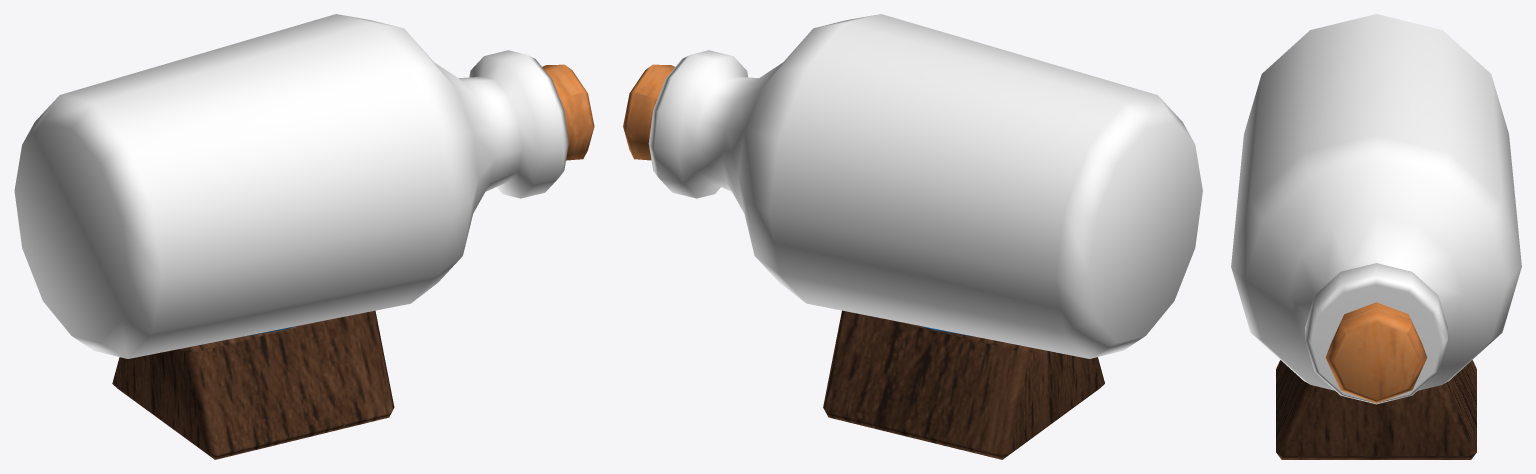
File: prop_014.fbx
The picture shows the model from 3 angles, left to right: view 1: azimuth 30°, elevation 25°; view 2: azimuth 150°, elevation 25°; view 3: azimuth 270°, elevation 25°; orthographic projection. The views are drawn at different scales.
Parts seen in each view (by area): view 1: prop_014; view 2: prop_014; view 3: prop_014.
Boxes of the visible parts, <box> form: prop_014: <box>14,14,594,459</box>; prop_014: <box>623,14,1202,459</box>; prop_014: <box>1231,14,1521,459</box>.
Bounding box in the file's own units: 42.7 × 22.1 × 28.56.
